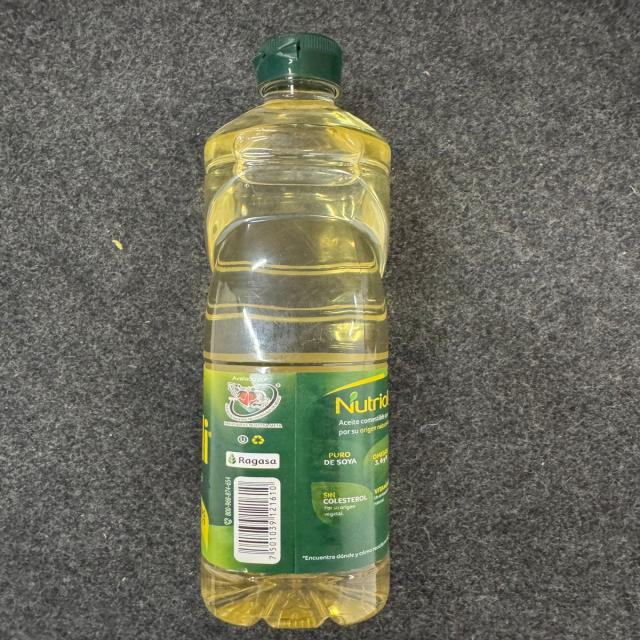Aceite Comestible Nutrioli 850ml: (201, 30, 393, 630)
